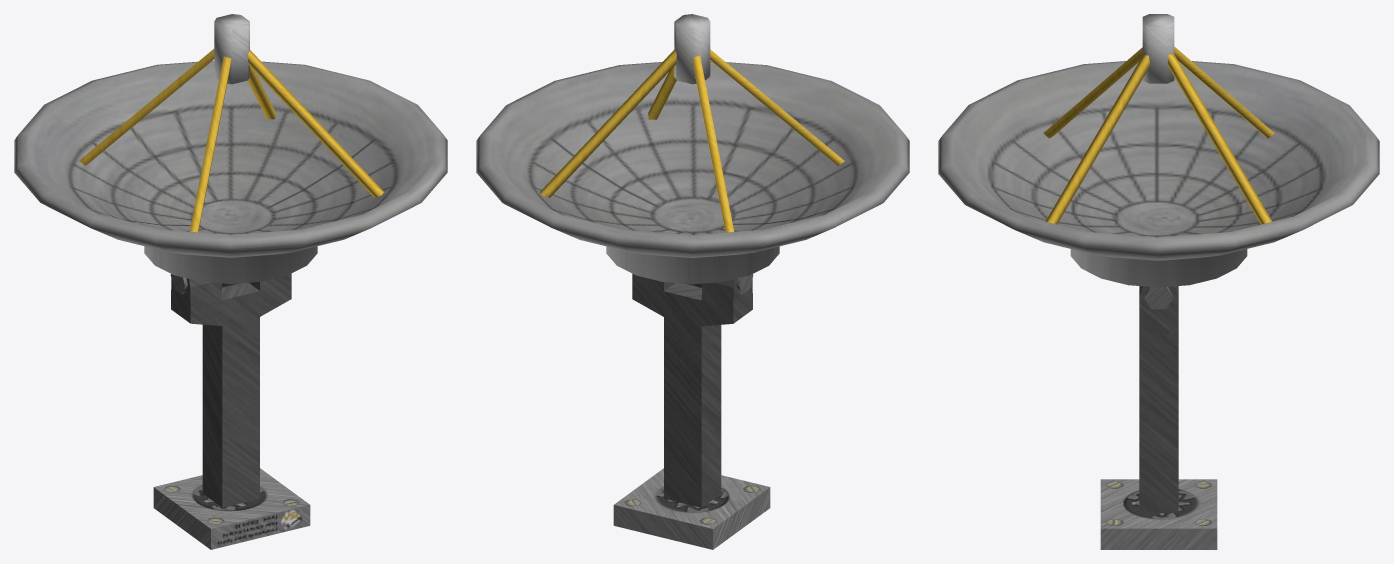
Rendered from isa_RAM_Dish.DAE.
The picture shows the model from 3 angles, left to right: view 1: azimuth 30°, elevation 25°; view 2: azimuth 150°, elevation 25°; view 3: azimuth 270°, elevation 25°; orthographic projection.
Visible parts, largest first — view 1: isaRAMDish, isaRAMMount, isaRAMBase; view 2: isaRAMDish, isaRAMMount, isaRAMBase; view 3: isaRAMDish, isaRAMMount, isaRAMBase.
Boxes of the visible parts, bbox=[...] form: isaRAMDish: bbox=[14, 14, 447, 294]; isaRAMMount: bbox=[171, 273, 291, 507]; isaRAMBase: bbox=[153, 468, 310, 549]; isaRAMDish: bbox=[476, 14, 909, 294]; isaRAMMount: bbox=[632, 273, 752, 507]; isaRAMBase: bbox=[613, 468, 770, 549]; isaRAMDish: bbox=[938, 14, 1379, 309]; isaRAMMount: bbox=[1139, 286, 1178, 512]; isaRAMBase: bbox=[1100, 479, 1217, 549].
Size of what is drawn, in the model's own units: 0.7674 by 0.9534 by 0.7558.
